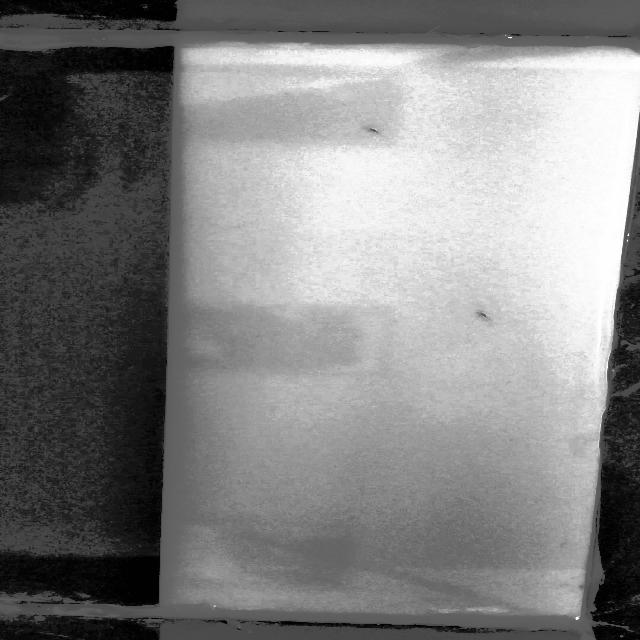shrimp: (358, 124, 394, 144), (471, 302, 498, 323)
